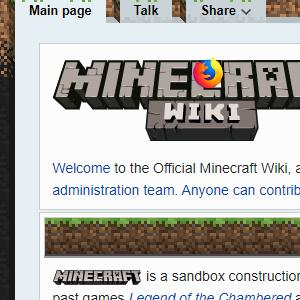firefox: (193, 57, 223, 89)
